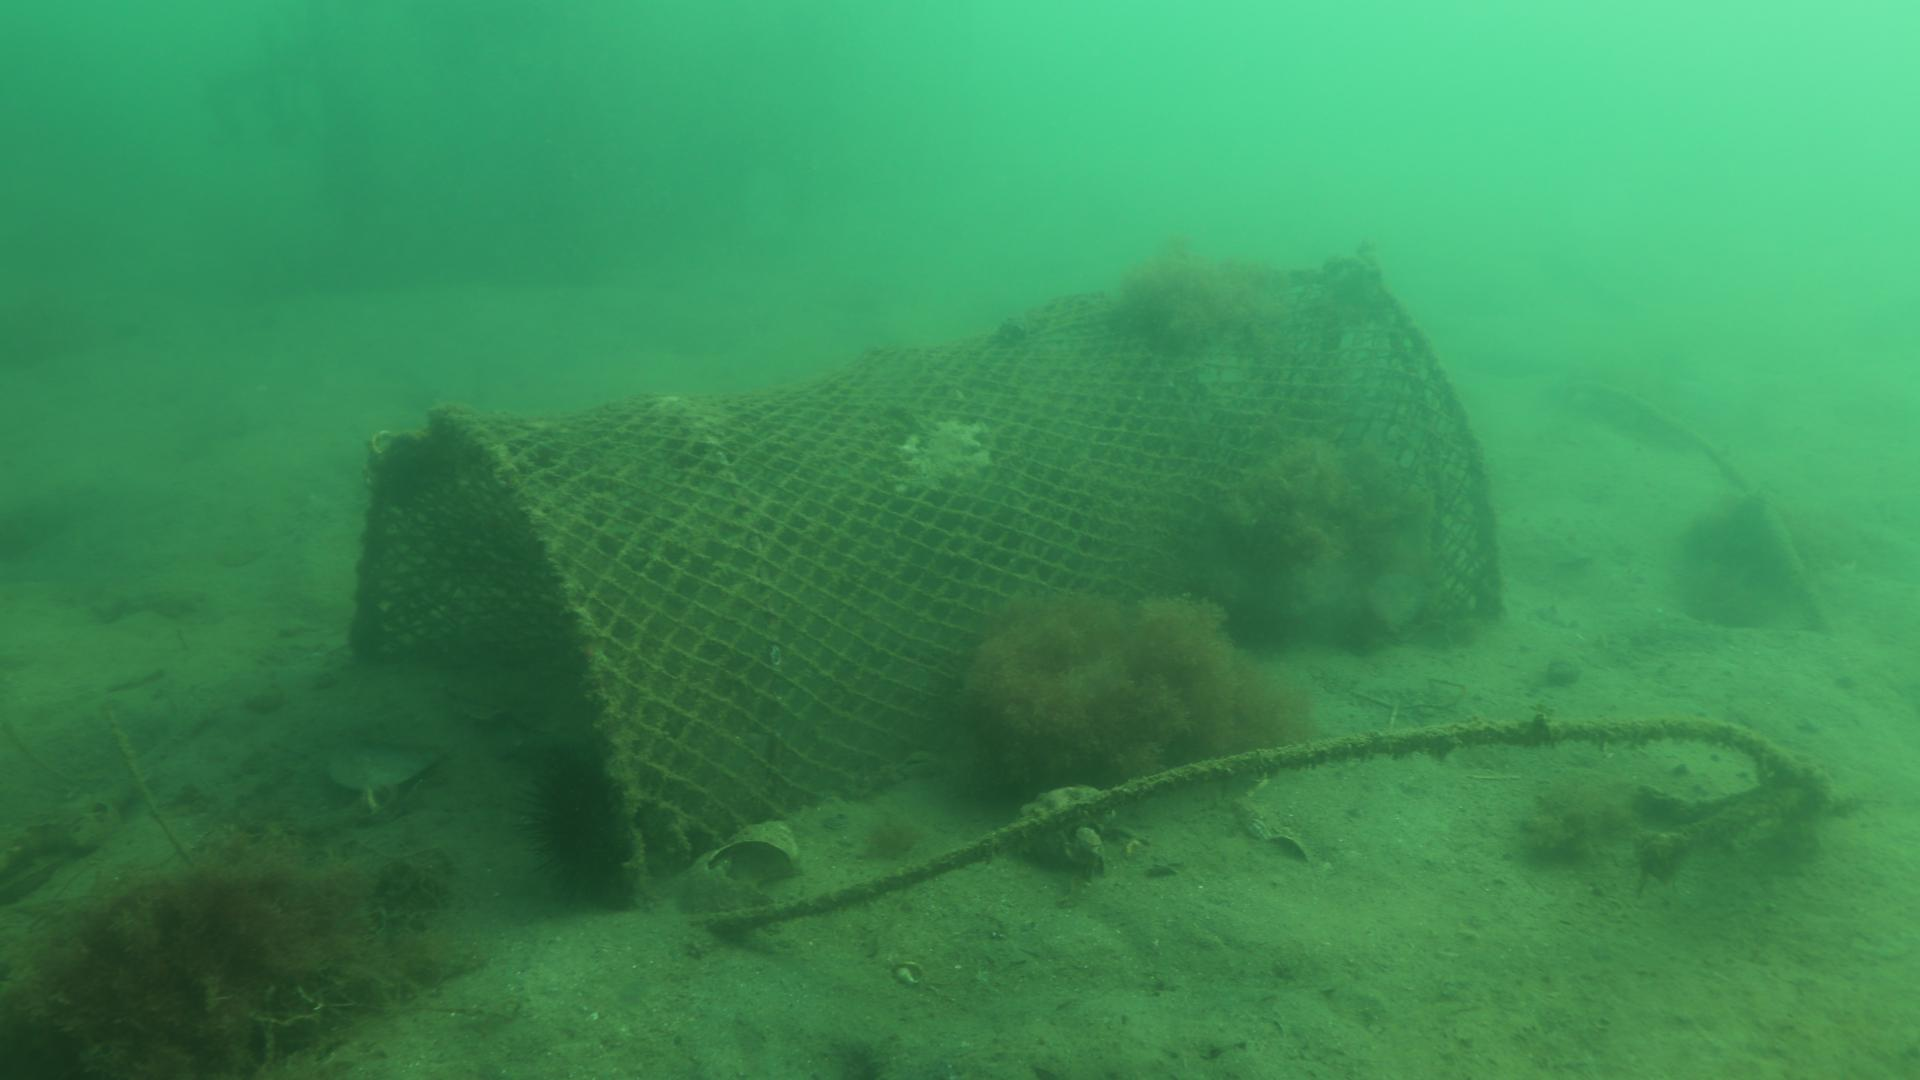rope: (723, 717, 1830, 927)
spring fish trap: (352, 258, 1505, 913)
